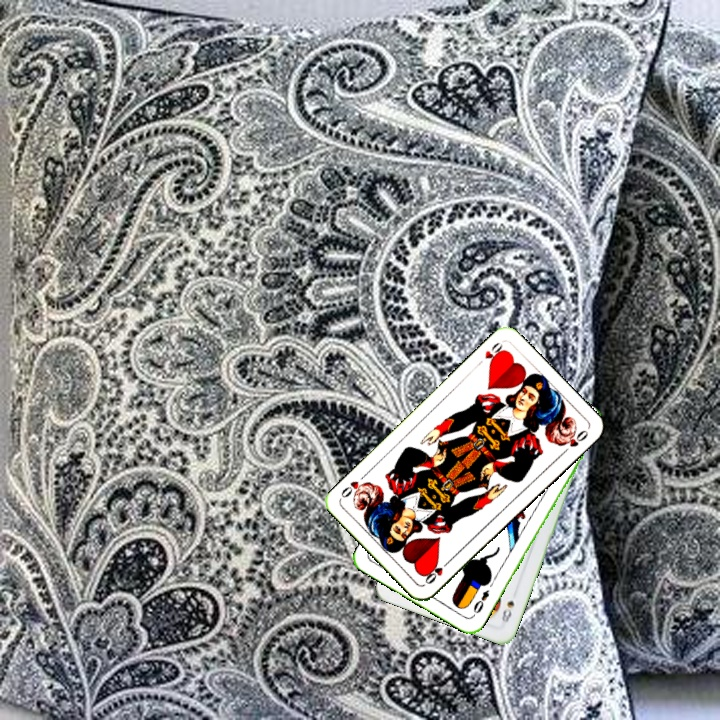EO: (468, 586, 492, 619)
HO: (472, 338, 508, 369), (421, 555, 453, 587)
S8: (496, 596, 517, 629)
